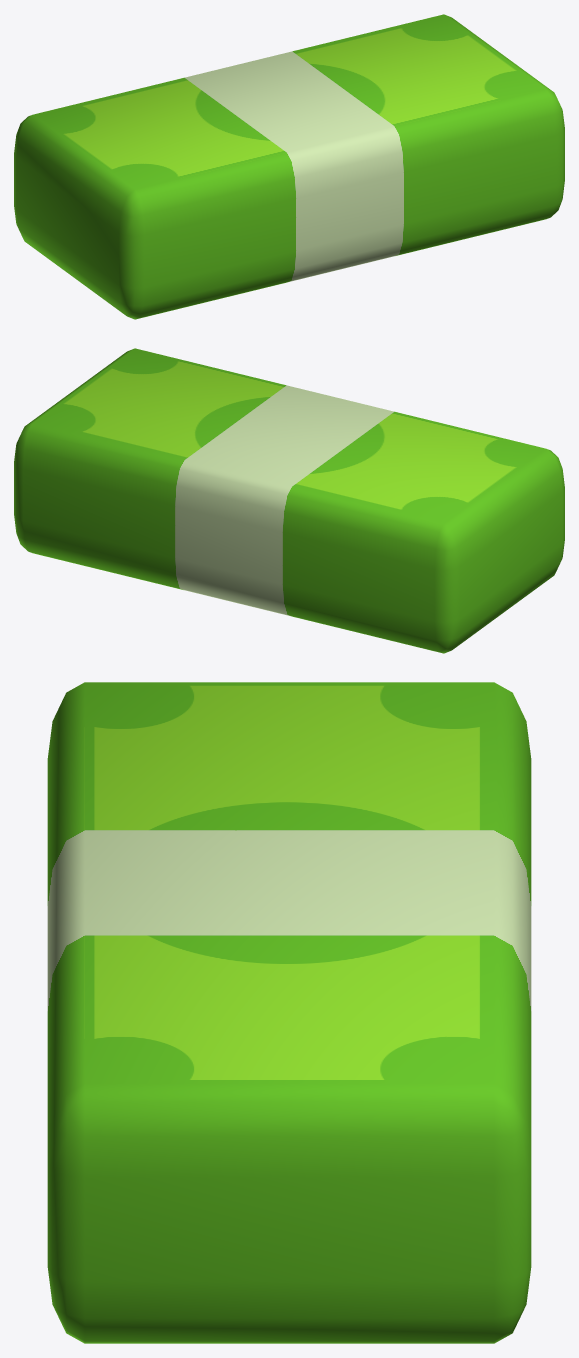
Rendered from money 1.fbx.
3 views of the same model, one above another, from view 1: azimuth 30°, elevation 25°; view 2: azimuth 150°, elevation 25°; view 3: azimuth 270°, elevation 25° (orthographic). The views are drawn at different scales.
Parts seen in each view (by area): view 1: money; view 2: money; view 3: money.
Boxes of the visible parts, bbox=[...] form: money: bbox=[14, 14, 564, 319]; money: bbox=[14, 348, 564, 653]; money: bbox=[47, 682, 531, 1343].
Size of the model in its own units: 146 by 40.89 by 68.95.
1 material, 1 textured.
